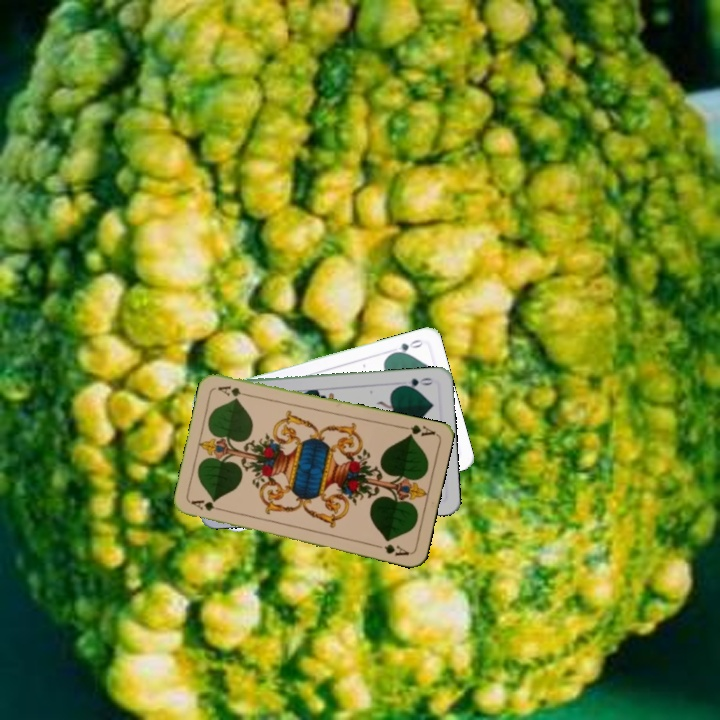GA: (397, 421, 438, 439), (187, 496, 227, 514)
GO: (387, 335, 426, 357), (396, 374, 435, 391)
